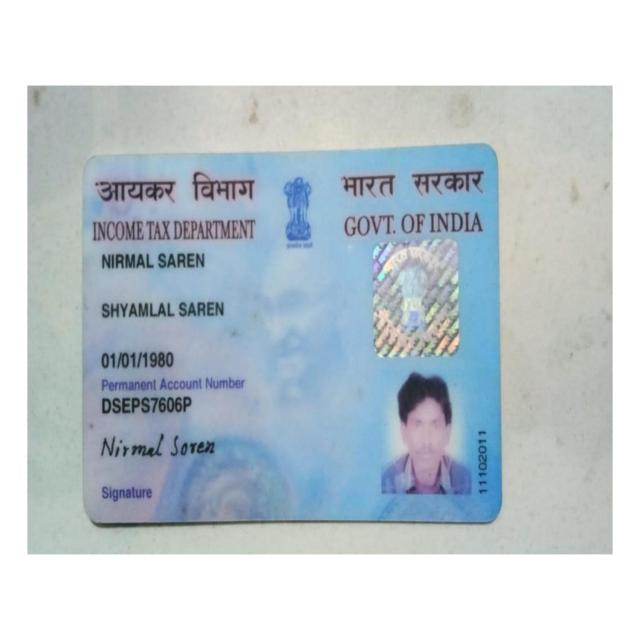pan_card: (86, 142, 497, 525)
